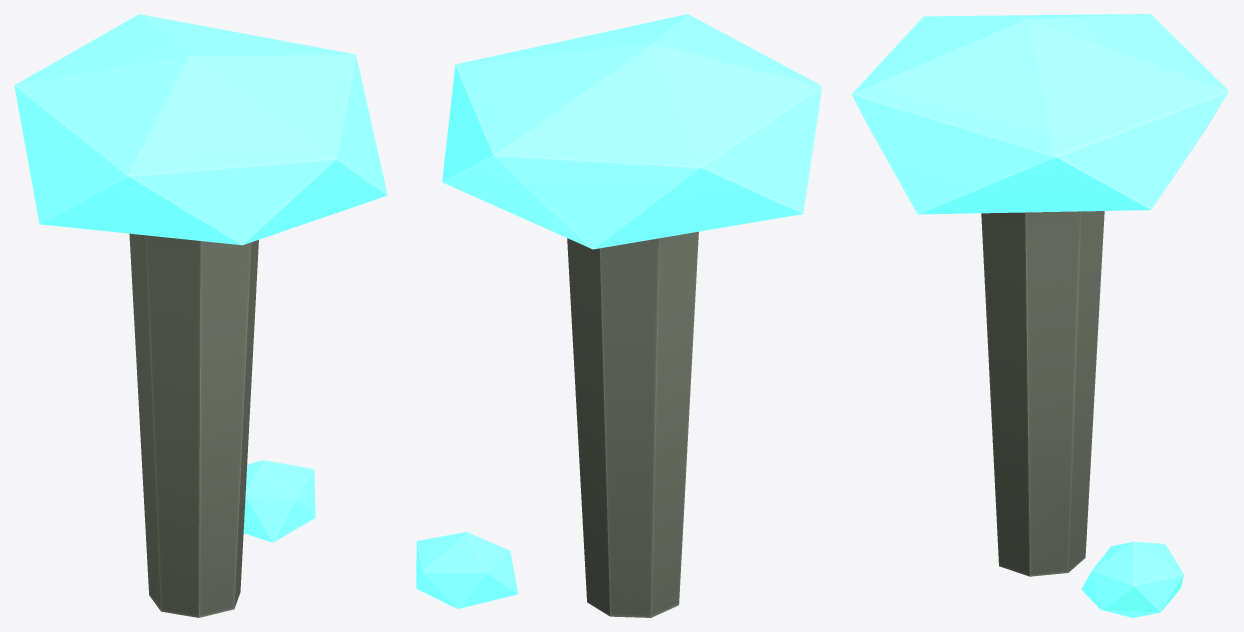
Rendered from decor_mushroom_giant.glb.
3 views of the same model, side by side, from view 1: azimuth 30°, elevation 25°; view 2: azimuth 150°, elevation 25°; view 3: azimuth 270°, elevation 25° (orthographic). The views are drawn at different scales.
Visible parts, largest first — view 1: decor_mushroom_giant; view 2: decor_mushroom_giant; view 3: decor_mushroom_giant.
Part boxes in pixels (left/top/right/bottom): decor_mushroom_giant: left=14, top=14, right=387, bottom=617; decor_mushroom_giant: left=416, top=14, right=822, bottom=617; decor_mushroom_giant: left=851, top=14, right=1229, bottom=617.
Bounding box in the file's own units: 0.9765 × 1.55 × 0.9965.
1 material, 1 textured.
